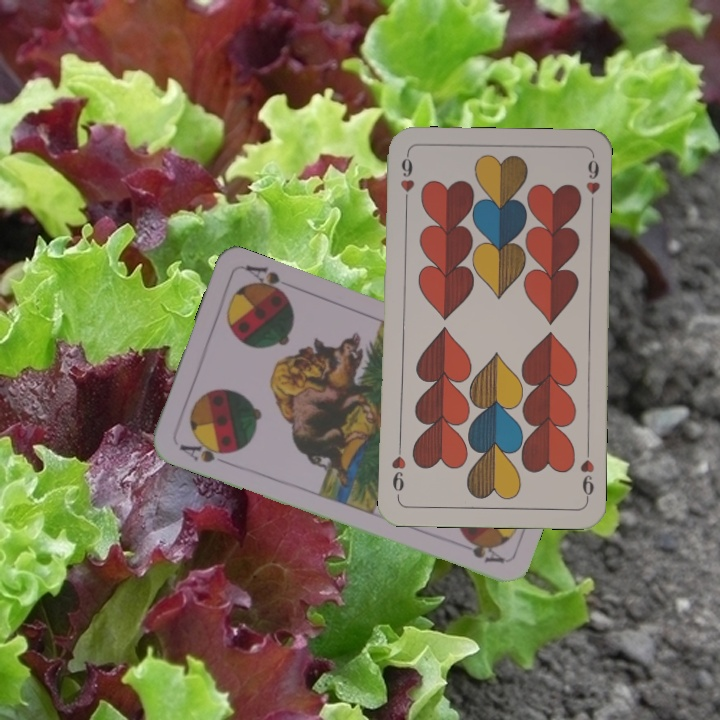H9: (576, 444, 597, 503), (396, 151, 417, 210)
SA: (175, 436, 234, 465)
